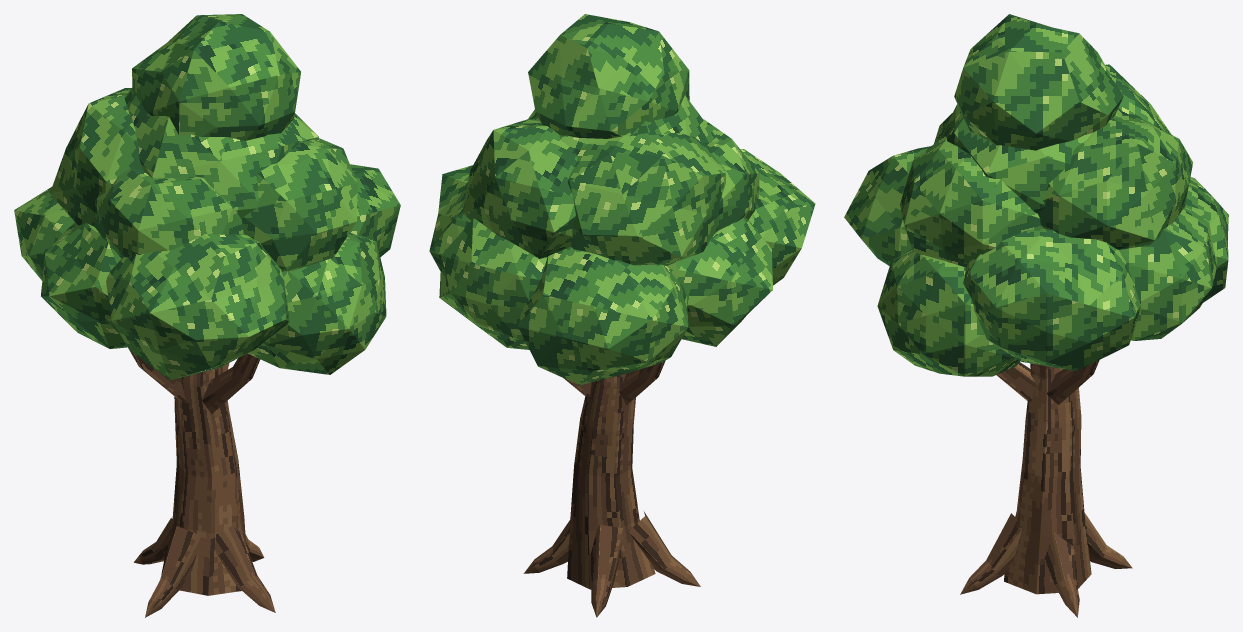
File: tree_oak.glb
3 views of the same model, side by side, from view 1: azimuth 30°, elevation 25°; view 2: azimuth 150°, elevation 25°; view 3: azimuth 270°, elevation 25° (orthographic). The views are drawn at different scales.
Parts seen in each view (by area): view 1: tree_oak; view 2: tree_oak; view 3: tree_oak.
Part boxes in pixels (bbox=[...]): tree_oak: bbox=[14, 14, 400, 617]; tree_oak: bbox=[429, 14, 815, 617]; tree_oak: bbox=[844, 14, 1228, 617].
Bounding box in the file's own units: 1.98 × 3.2 × 1.99.
2 materials, 2 textured.
